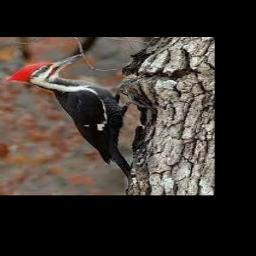Woodpecker: (5, 54, 133, 186)
